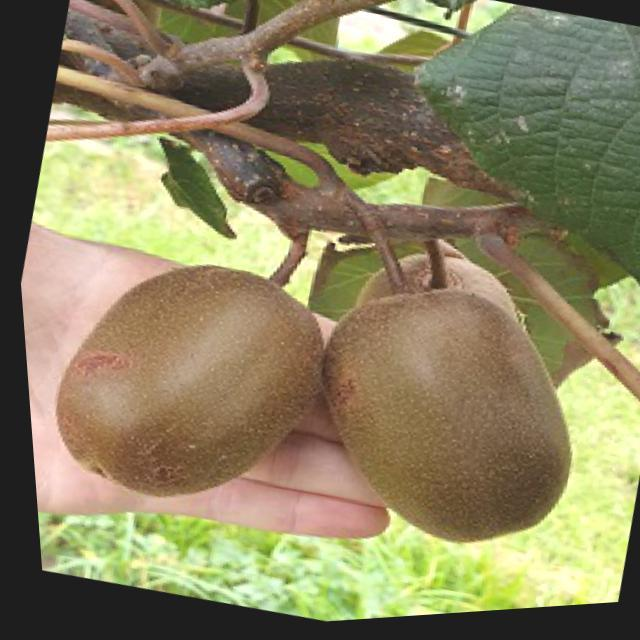kiwi: (267, 259, 609, 585), (18, 226, 343, 541)
